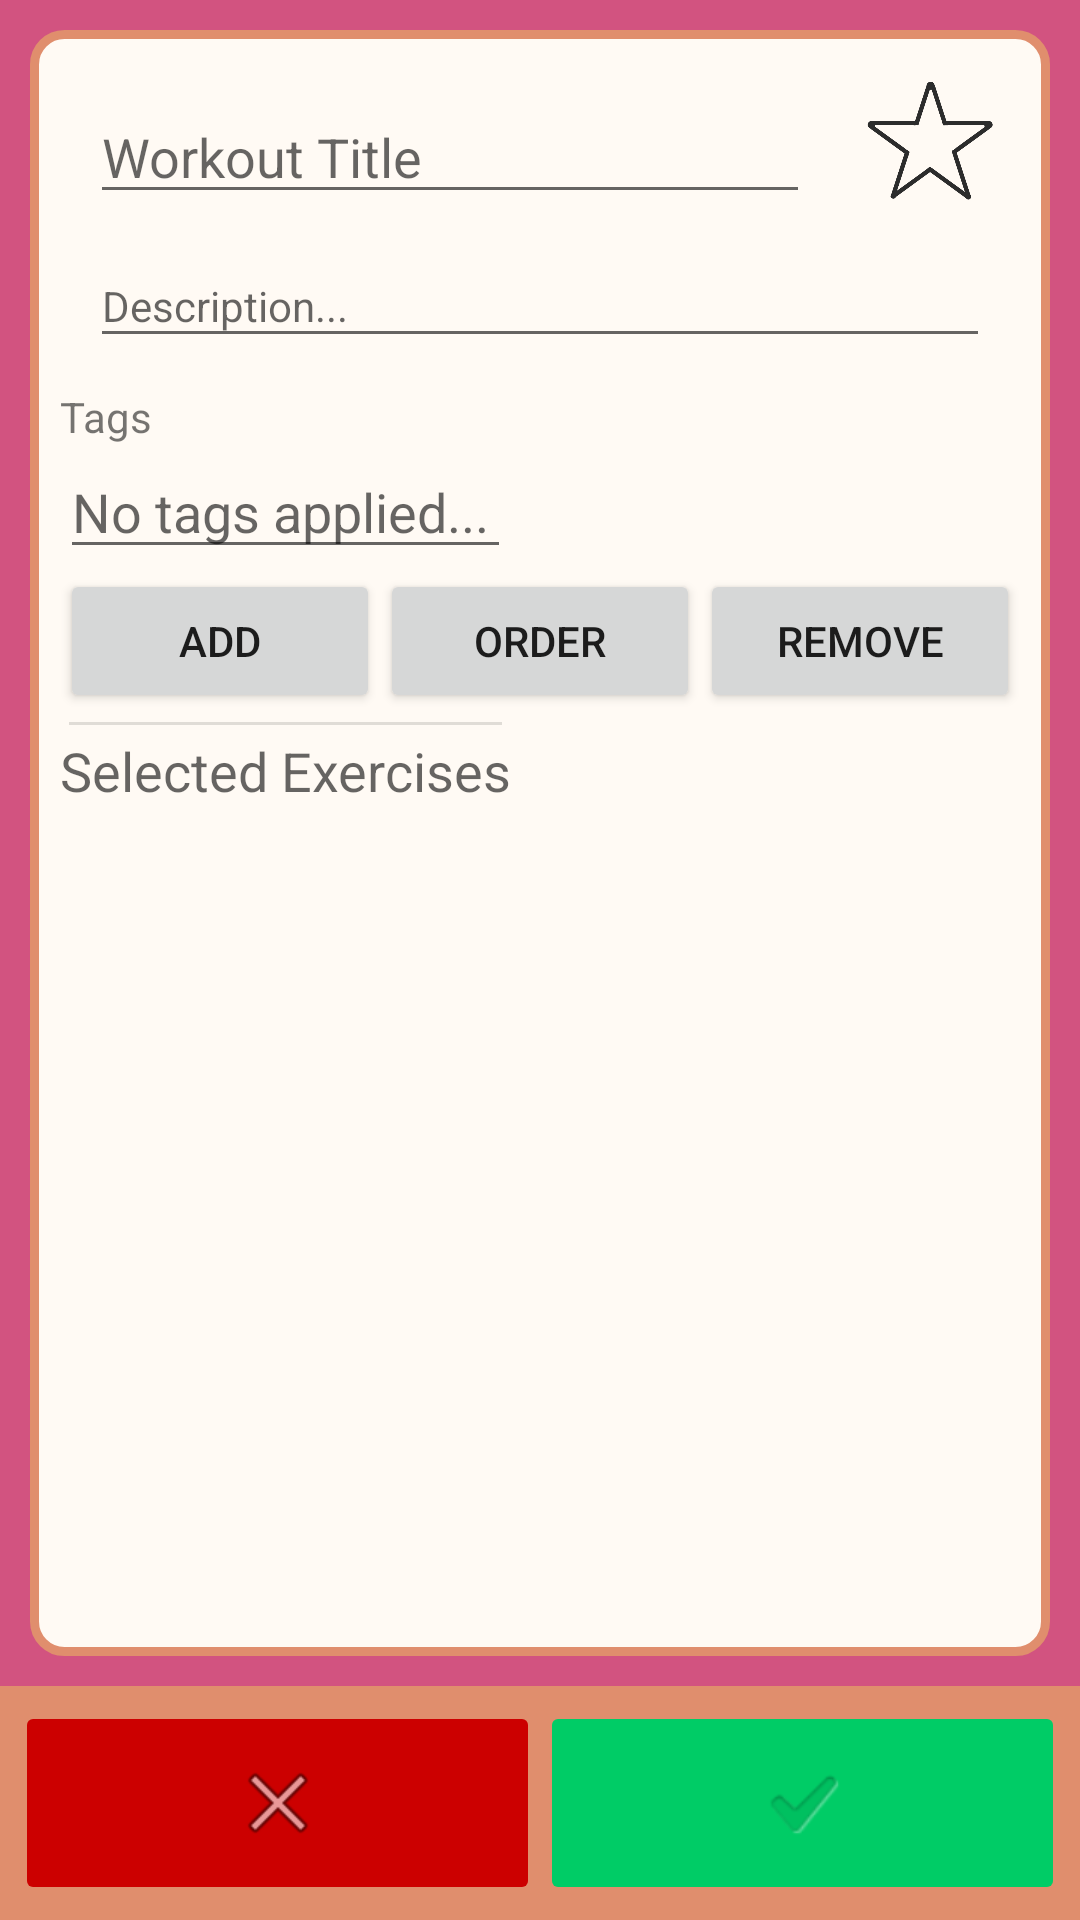

Icons on this 1080×1920 Android screen, each with its box as (x1=x1, y1=y1, x2=x2, y2=y2):
star: (x1=868, y1=82, x2=993, y2=200)
